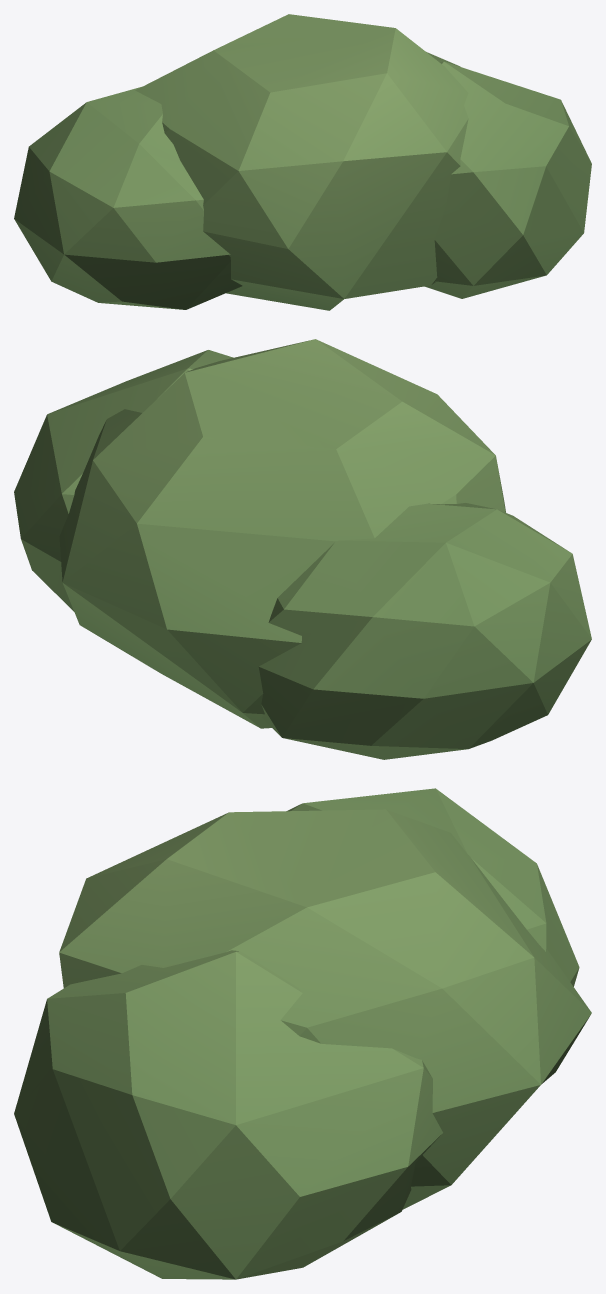
File: bush.glb
3 views of the same model, one above another, from view 1: azimuth 30°, elevation 25°; view 2: azimuth 150°, elevation 25°; view 3: azimuth 270°, elevation 25° (orthographic). The views are drawn at different scales.
Parts seen in each view (by area): view 1: Bush_Master; view 2: Bush_Master; view 3: Bush_Master.
Part boxes in pixels (x1,y1,x2,y2): Bush_Master: (14, 14, 591, 310); Bush_Master: (14, 339, 591, 759); Bush_Master: (14, 788, 591, 1279).
Bounding box in the file's own units: 1.32 × 0.6237 × 0.9761.
